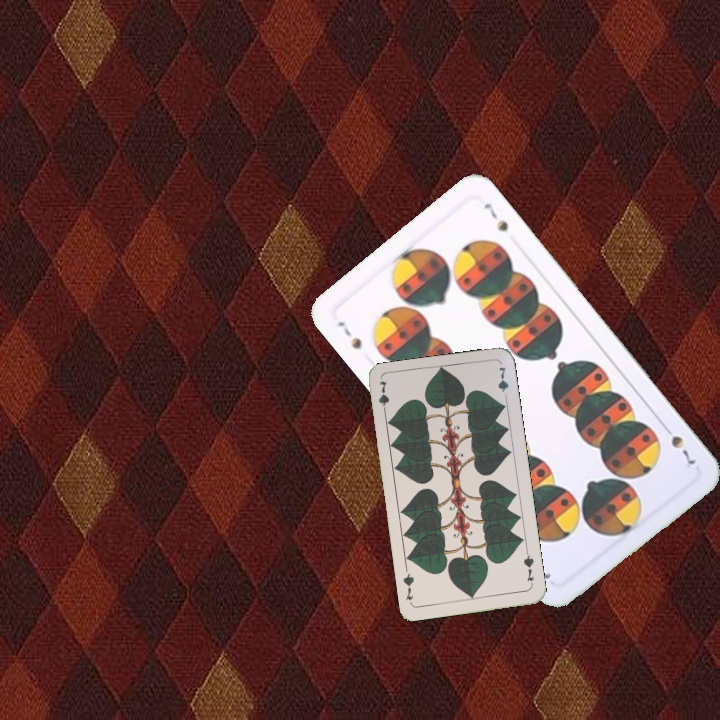G7: (374, 377, 392, 418), (520, 548, 537, 584)
S7: (658, 420, 698, 468), (333, 317, 365, 352)
